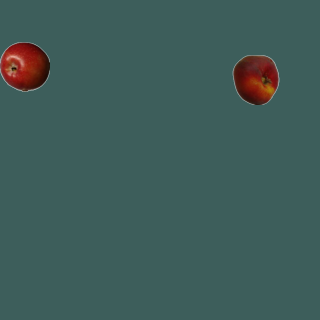Apple Braeburn: (0, 41, 49, 91)
Nectarine Flat: (230, 54, 280, 104)
